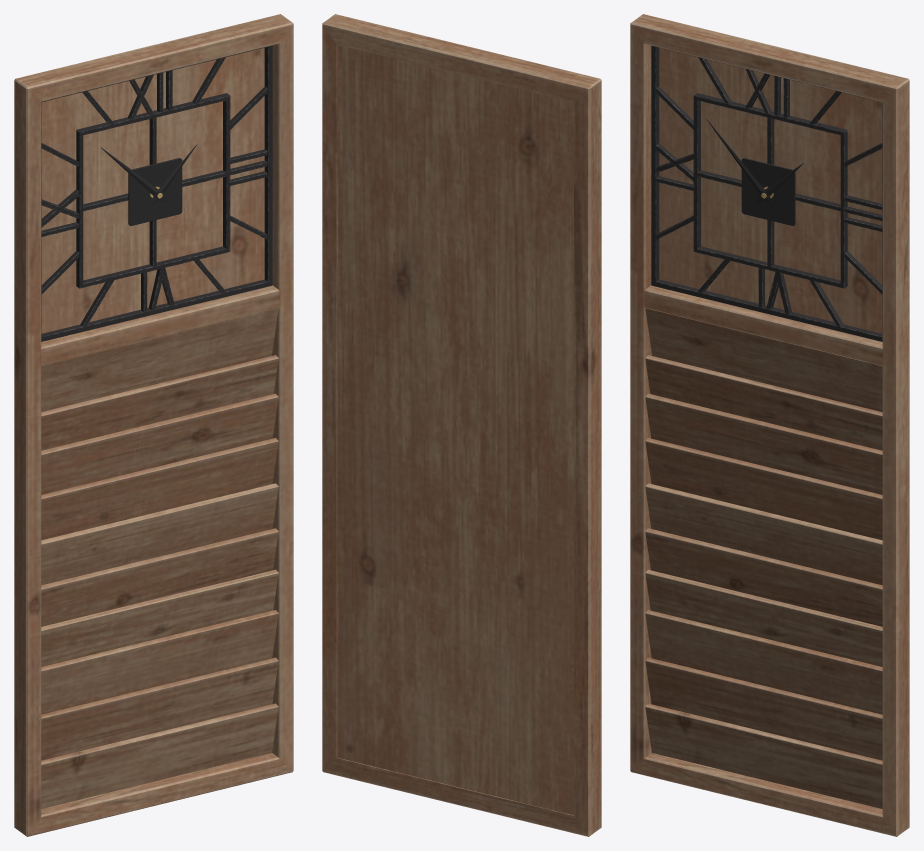
The picture shows the model from 3 angles, left to right: view 1: azimuth 30°, elevation 25°; view 2: azimuth 150°, elevation 25°; view 3: azimuth 330°, elevation 25°; orthographic projection.
Parts seen in each view (by area): view 1: RootNode; view 2: RootNode; view 3: RootNode.
Part boxes in pixels (left/top/right/bottom): RootNode: left=14, top=14, right=293, bottom=836; RootNode: left=322, top=14, right=601, bottom=836; RootNode: left=630, top=14, right=909, bottom=836.
Size of the model in its own units: 0.3606 by 0.9652 by 0.0305.
1 material, 1 textured.
